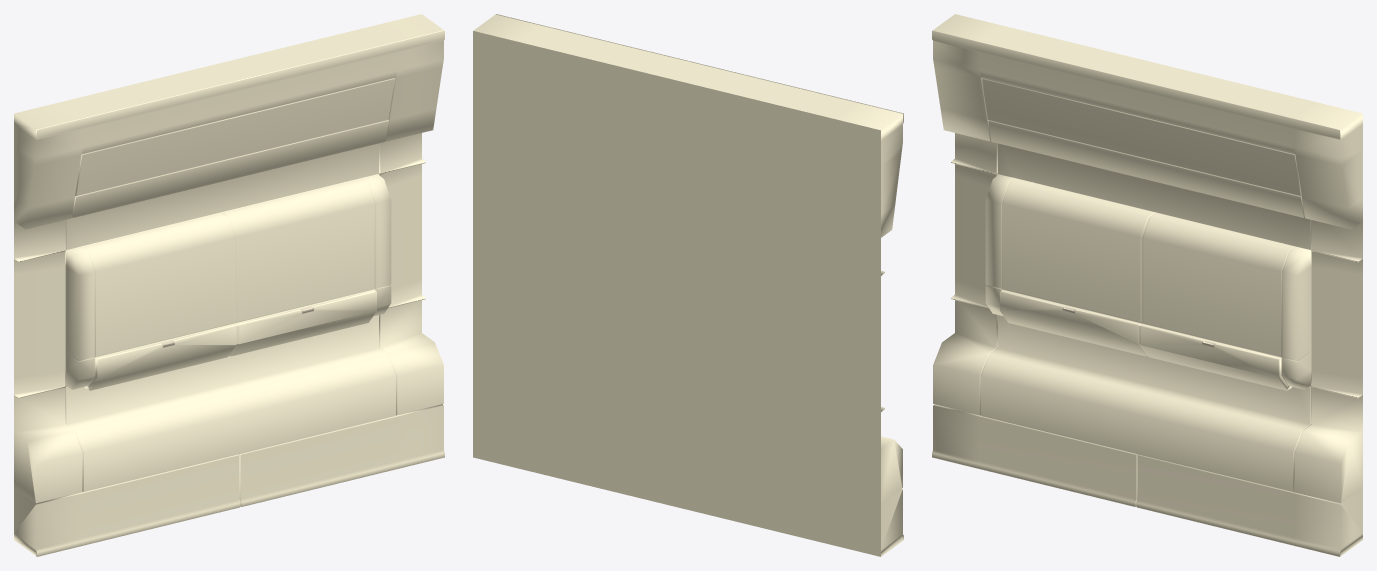
File: ArtDecoFlatPatternedWall.002.glb
3 views of the same model, side by side, from view 1: azimuth 30°, elevation 25°; view 2: azimuth 150°, elevation 25°; view 3: azimuth 330°, elevation 25° (orthographic).
Parts seen in each view (by area): view 1: ArtDecoFlatPatternedWall.002; view 2: ArtDecoFlatPatternedWall.002; view 3: ArtDecoFlatPatternedWall.002.
Part boxes in pixels (x1,y1,x2,y2): ArtDecoFlatPatternedWall.002: (14,14,444,556); ArtDecoFlatPatternedWall.002: (473,14,903,556); ArtDecoFlatPatternedWall.002: (932,14,1362,556).
Size of what is drawn, in the model's own units: 3.01 by 3.01 by 0.2942.
Materials: 1 (1 with a texture image).
